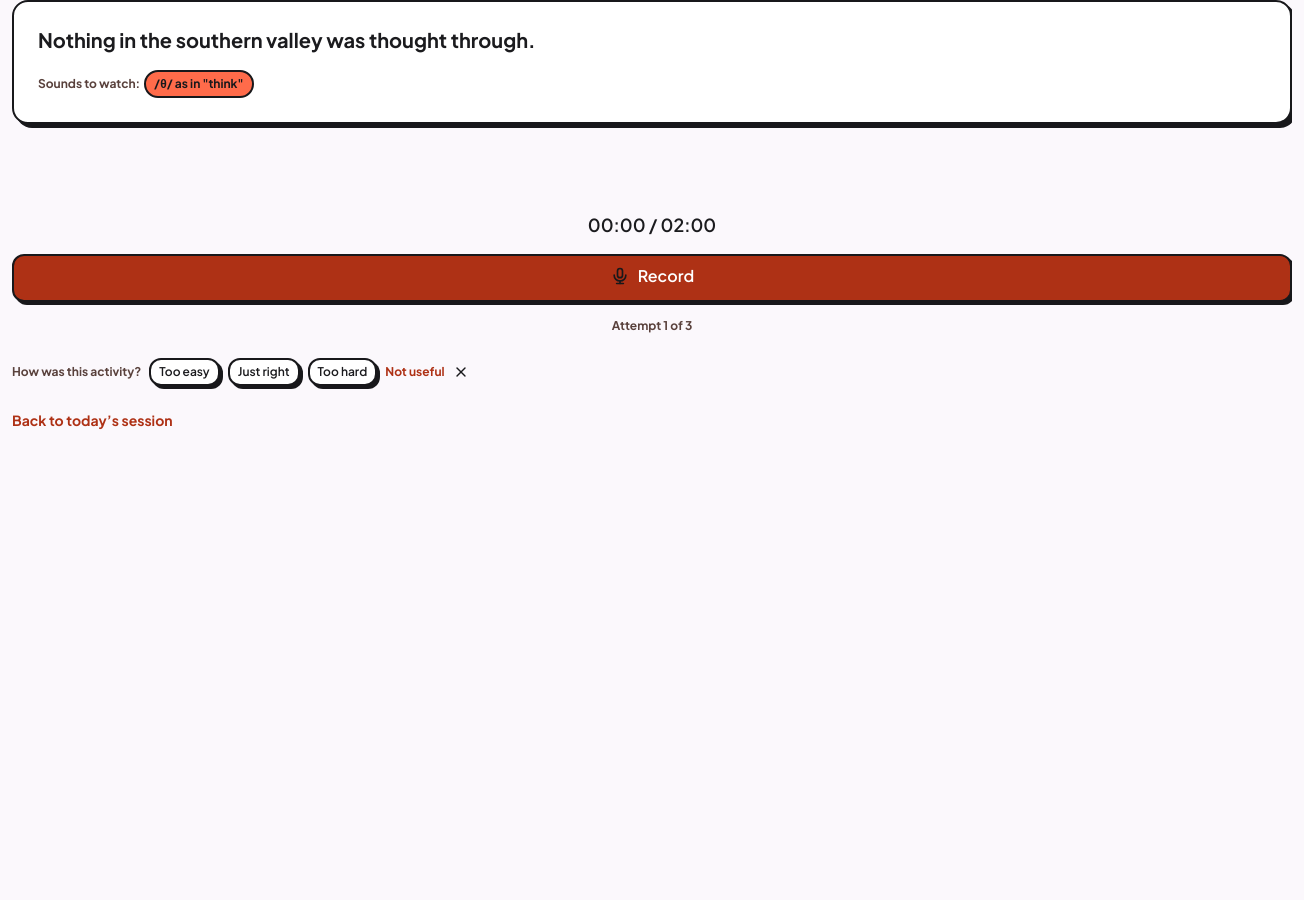
SpeakingRunner › records_reviews_and_submits_a_first_attempt
The width and height of the screenshot is (1304, 900).
Click the button with aria-label "Start recording". click: (652, 278)
box: [12,254,1292,302]
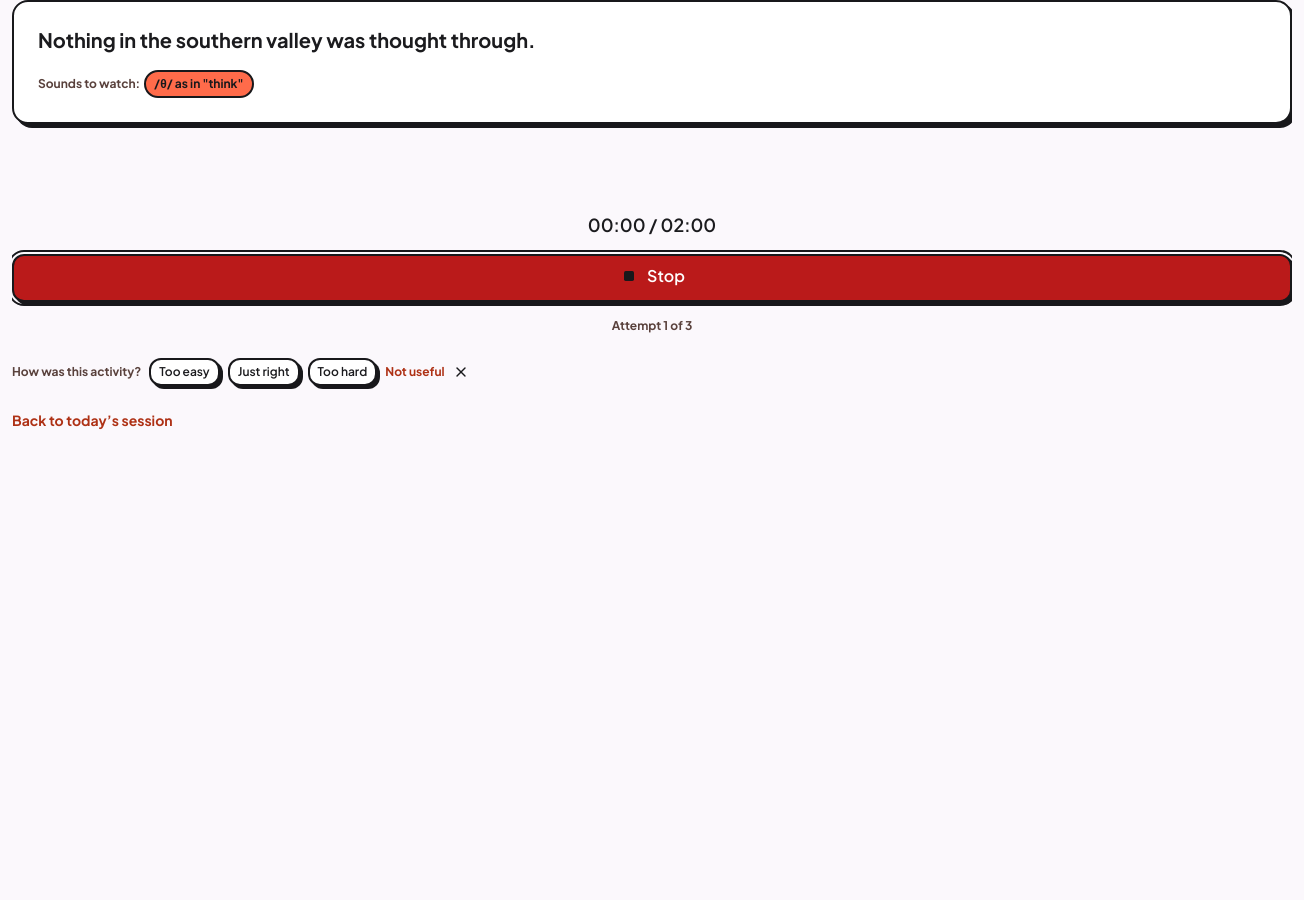
Check: the button with aria-label "Stop recording" is shown
Click the button with aria-label "Stop recording". click: (652, 278)
box: [12,254,1292,302]
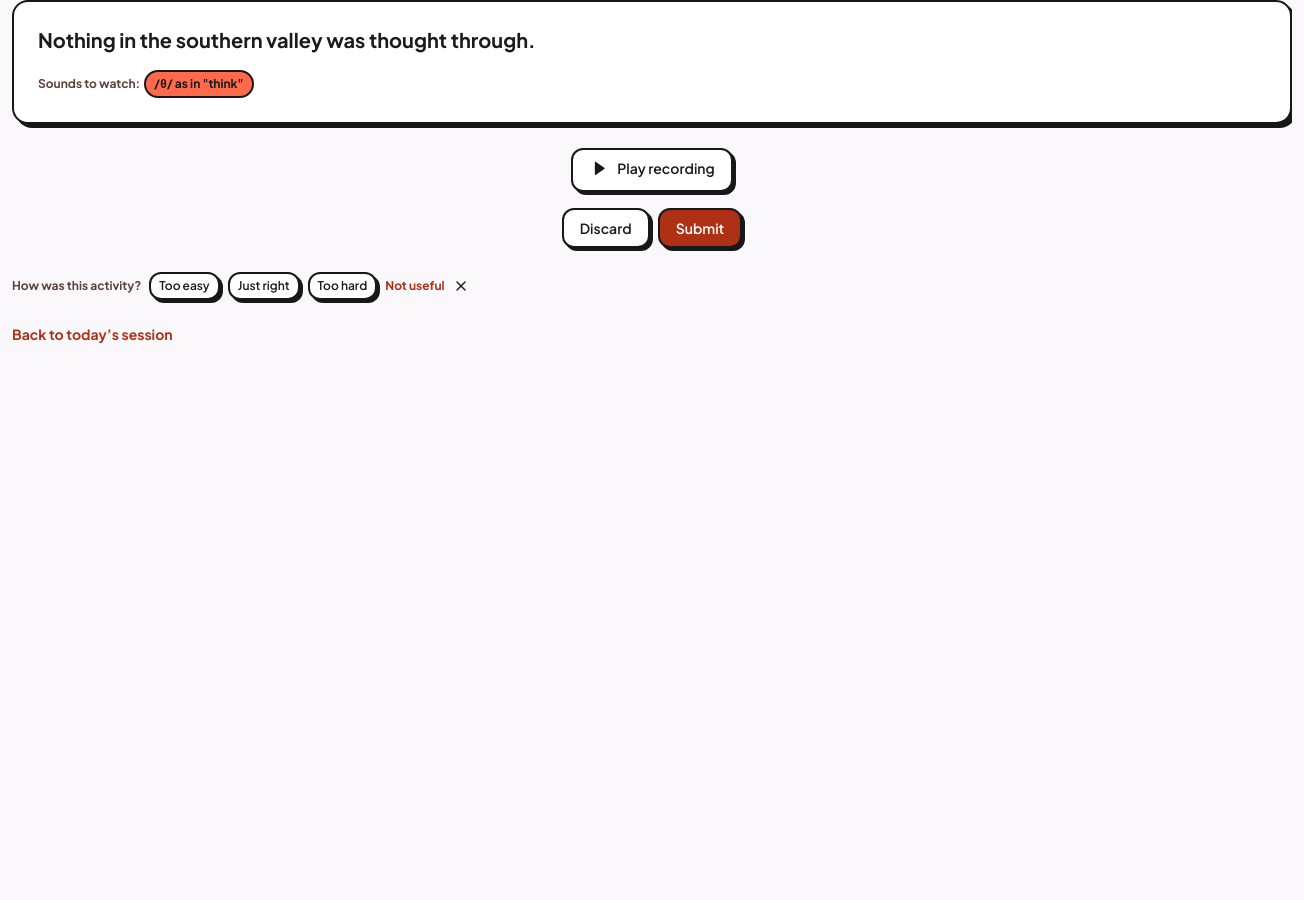
Check: the button "Submit" is shown
Click the button "Submit". click: (700, 228)
box: [658,208,742,248]
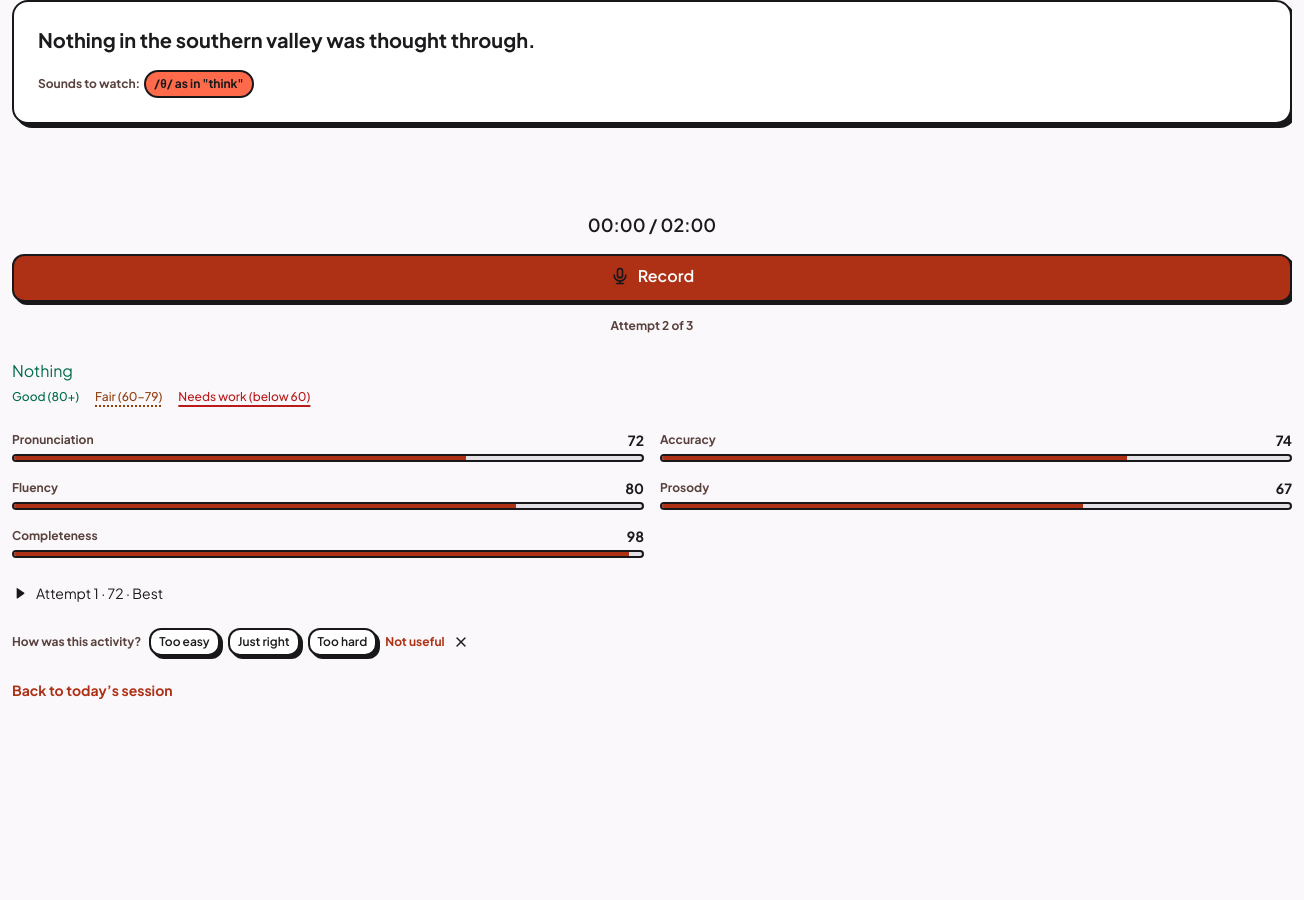
Check: the text "Pronunciation" is shown, box [12,432,94,448]
